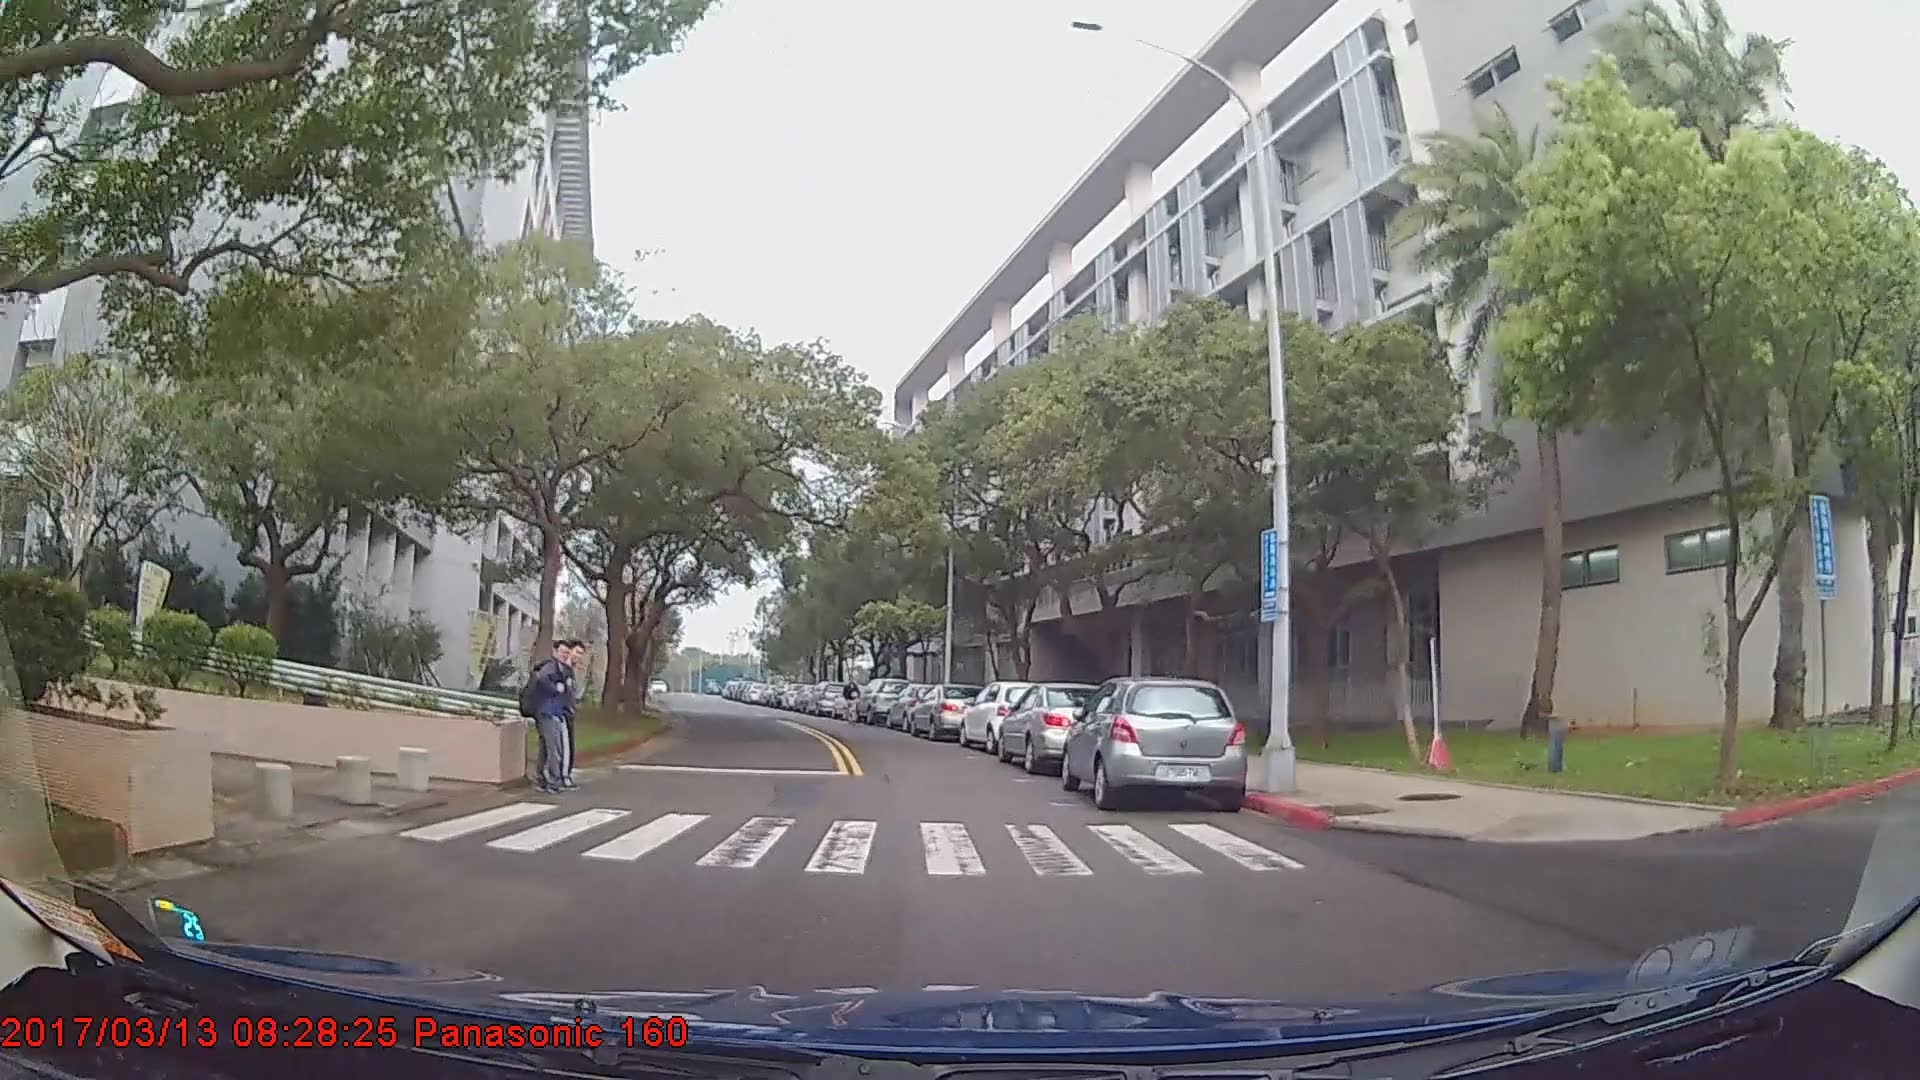pedestrian: (519, 634, 582, 801), (844, 678, 864, 728)
vehicle: (1062, 676, 1249, 812), (994, 681, 1115, 774), (959, 681, 1055, 756), (906, 680, 991, 741), (854, 676, 912, 722), (808, 680, 846, 718)
